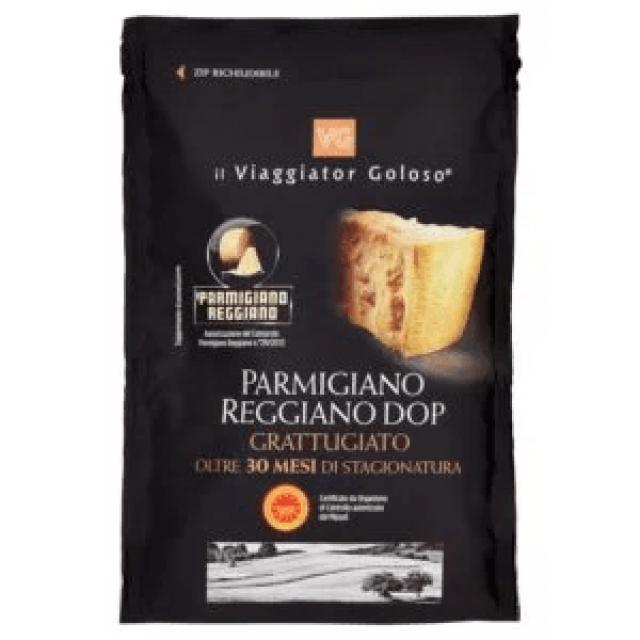Cheese: (119, 15, 521, 627)
